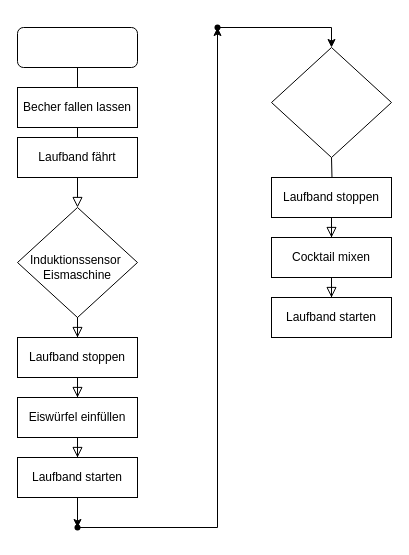
Some shapes in this 409 by 555 pixel diagram are drawn without their labels. Here are the shapes that lost their labels. From the top down, the centre of each, then its label:
At (77,47): "Displayeingabe Erfolgt".
At (331,102): "Induktionssensor Cocktailmixer".
